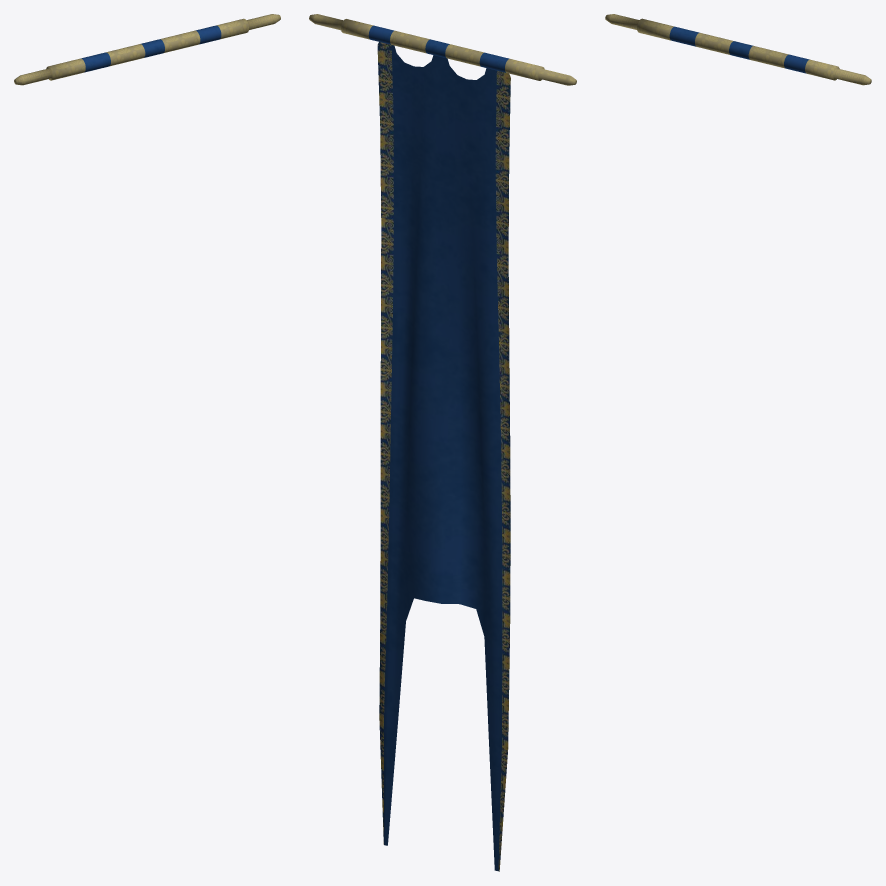
File: SM_fabric_decoration_05.glb
The picture shows the model from 3 angles, left to right: view 1: azimuth 30°, elevation 25°; view 2: azimuth 150°, elevation 25°; view 3: azimuth 330°, elevation 25°; orthographic projection.
Visible parts, largest first — view 1: SM_fabric_decoration_05; view 2: SM_fabric_decoration_05; view 3: SM_fabric_decoration_05.
Part boxes in pixels (x1=…): SM_fabric_decoration_05: x1=14, y1=14, x2=280, y2=85; SM_fabric_decoration_05: x1=309, y1=14, x2=576, y2=871; SM_fabric_decoration_05: x1=605, y1=14, x2=871, y2=85.
Bounding box in the file's own units: 3.9 × 11.5 × 0.2502.
Materials: 2 (2 with a texture image).
